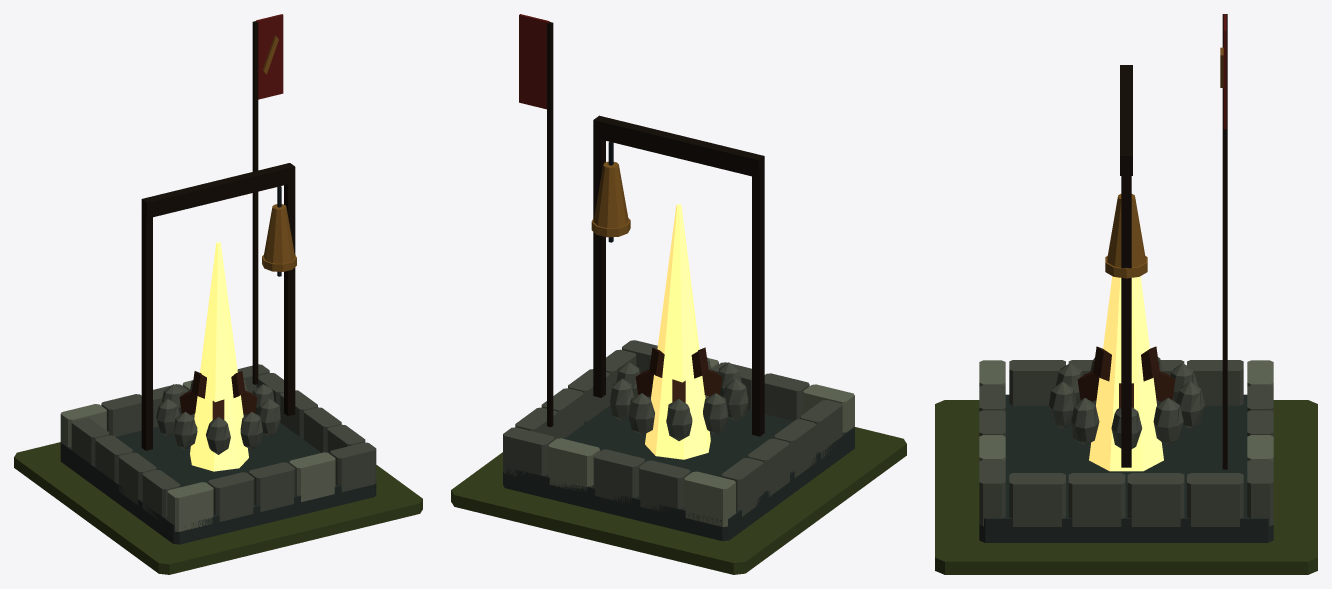
The model's file is watchfire_t6.glb.
3 renders of one model, left to right at view 1: azimuth 30°, elevation 25°; view 2: azimuth 150°, elevation 25°; view 3: azimuth 270°, elevation 25°, orthographic. The views are drawn at different scales.
Visible parts, largest first — view 1: MMR | watchfire | T06 Architecture.001, MMR | watchfire | Tier 06 Ground.001; view 2: MMR | watchfire | T06 Architecture.001, MMR | watchfire | Tier 06 Ground.001; view 3: MMR | watchfire | T06 Architecture.001, MMR | watchfire | Tier 06 Ground.001.
Boxes of the visible parts, <box> form: MMR | watchfire | T06 Architecture.001: <box>60,14,376,544</box>; MMR | watchfire | Tier 06 Ground.001: <box>14,442,422,574</box>; MMR | watchfire | T06 Architecture.001: <box>503,14,854,541</box>; MMR | watchfire | Tier 06 Ground.001: <box>451,427,906,574</box>; MMR | watchfire | T06 Architecture.001: <box>979,14,1273,542</box>; MMR | watchfire | Tier 06 Ground.001: <box>935,400,1317,574</box>.
Size of the model in its own units: 1.3 by 1.97 by 1.3.
Materials: 2 (1 with a texture image).
